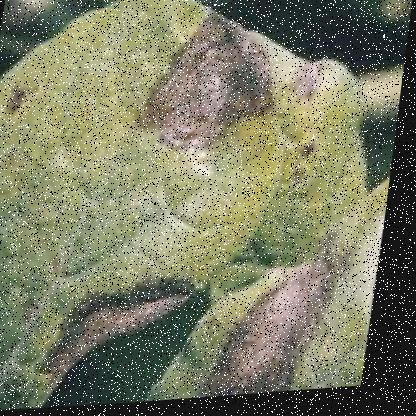AlternariaBrassicicola: (120, 0, 306, 170)
